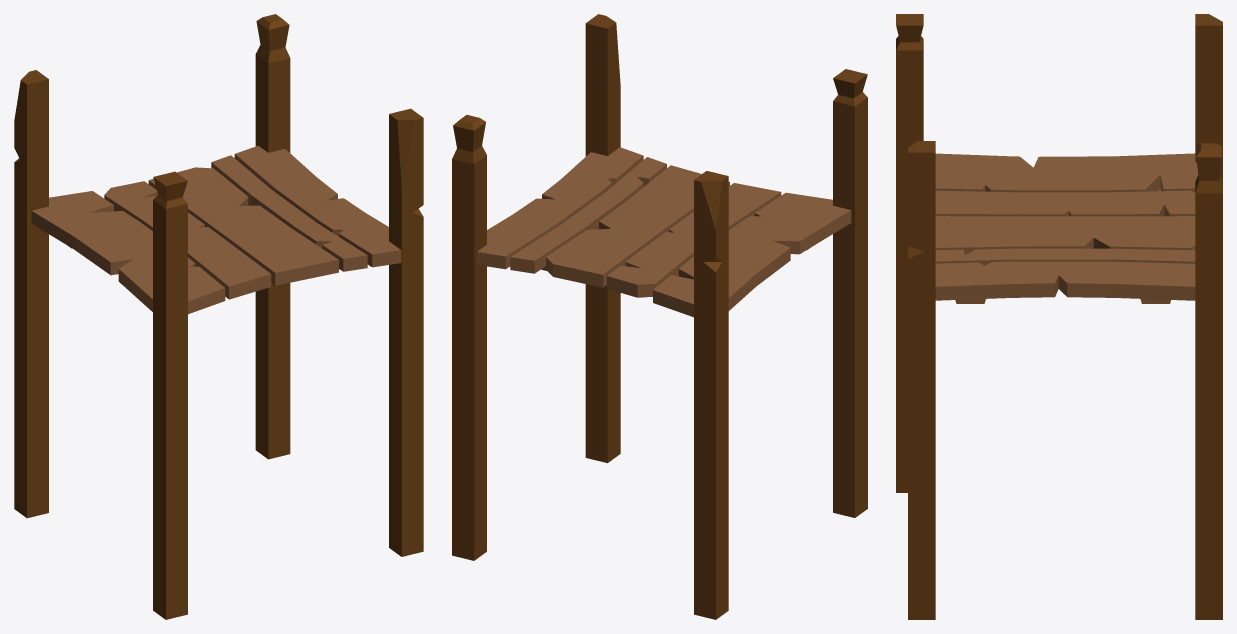
File: WoodenPlatform.fbx
The picture shows the model from 3 angles, left to right: view 1: azimuth 30°, elevation 25°; view 2: azimuth 150°, elevation 25°; view 3: azimuth 270°, elevation 25°; orthographic projection. The views are drawn at different scales.
Visible parts, largest first — view 1: WoodenPlatform; view 2: WoodenPlatform; view 3: WoodenPlatform.
Boxes of the visible parts, box(x1,y1,x2,y2) form: WoodenPlatform: box(14, 14, 423, 619); WoodenPlatform: box(452, 14, 867, 619); WoodenPlatform: box(896, 14, 1222, 619).
Size of the model in its own units: 202 by 318 by 201.
